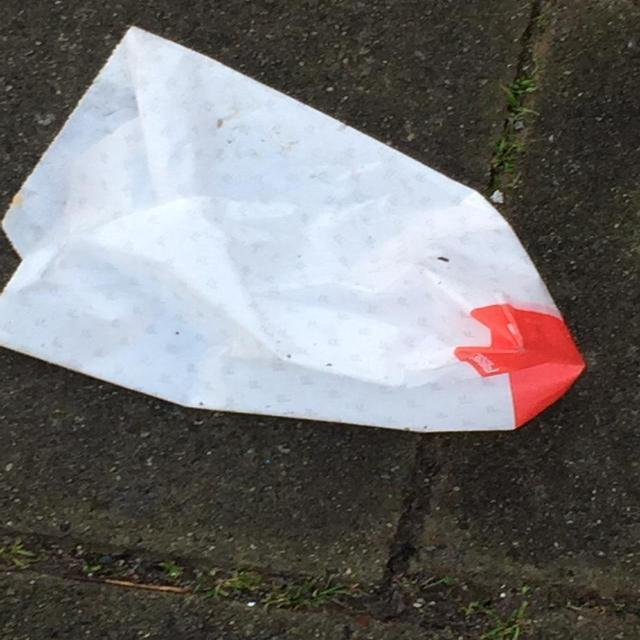Paper: (0, 17, 592, 438)
